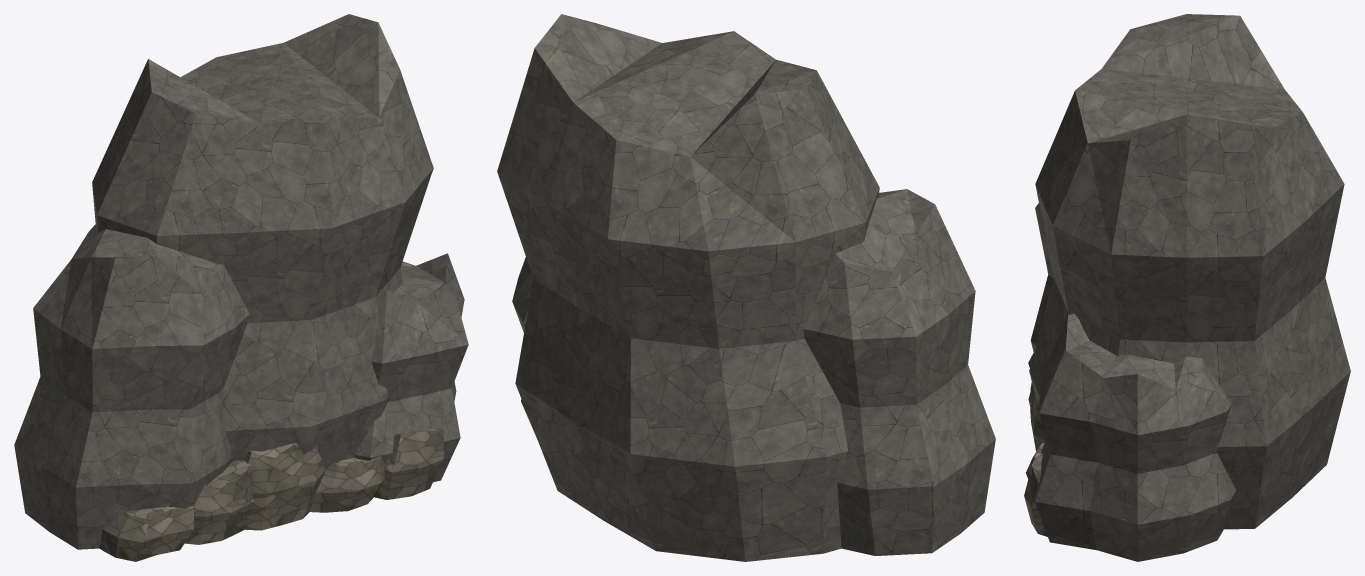
The model's file is Cliff_C.fbx.
3 renders of one model, left to right at view 1: azimuth 30°, elevation 25°; view 2: azimuth 150°, elevation 25°; view 3: azimuth 270°, elevation 25°, orthographic. The views are drawn at different scales.
Visible parts, largest first — view 1: Cliff_C; view 2: Cliff_C; view 3: Cliff_C.
Boxes of the visible parts, <box> form: Cliff_C: <box>14,14,468,561</box>; Cliff_C: <box>497,14,995,561</box>; Cliff_C: <box>1024,14,1350,561</box>.
Size of the model in its own units: 7.48 by 6.99 by 4.83.
